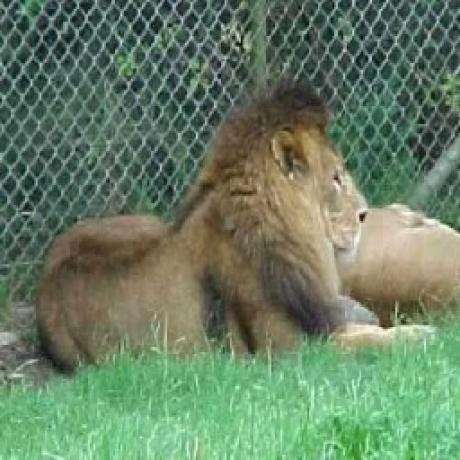Lion: (31, 76, 380, 360)
